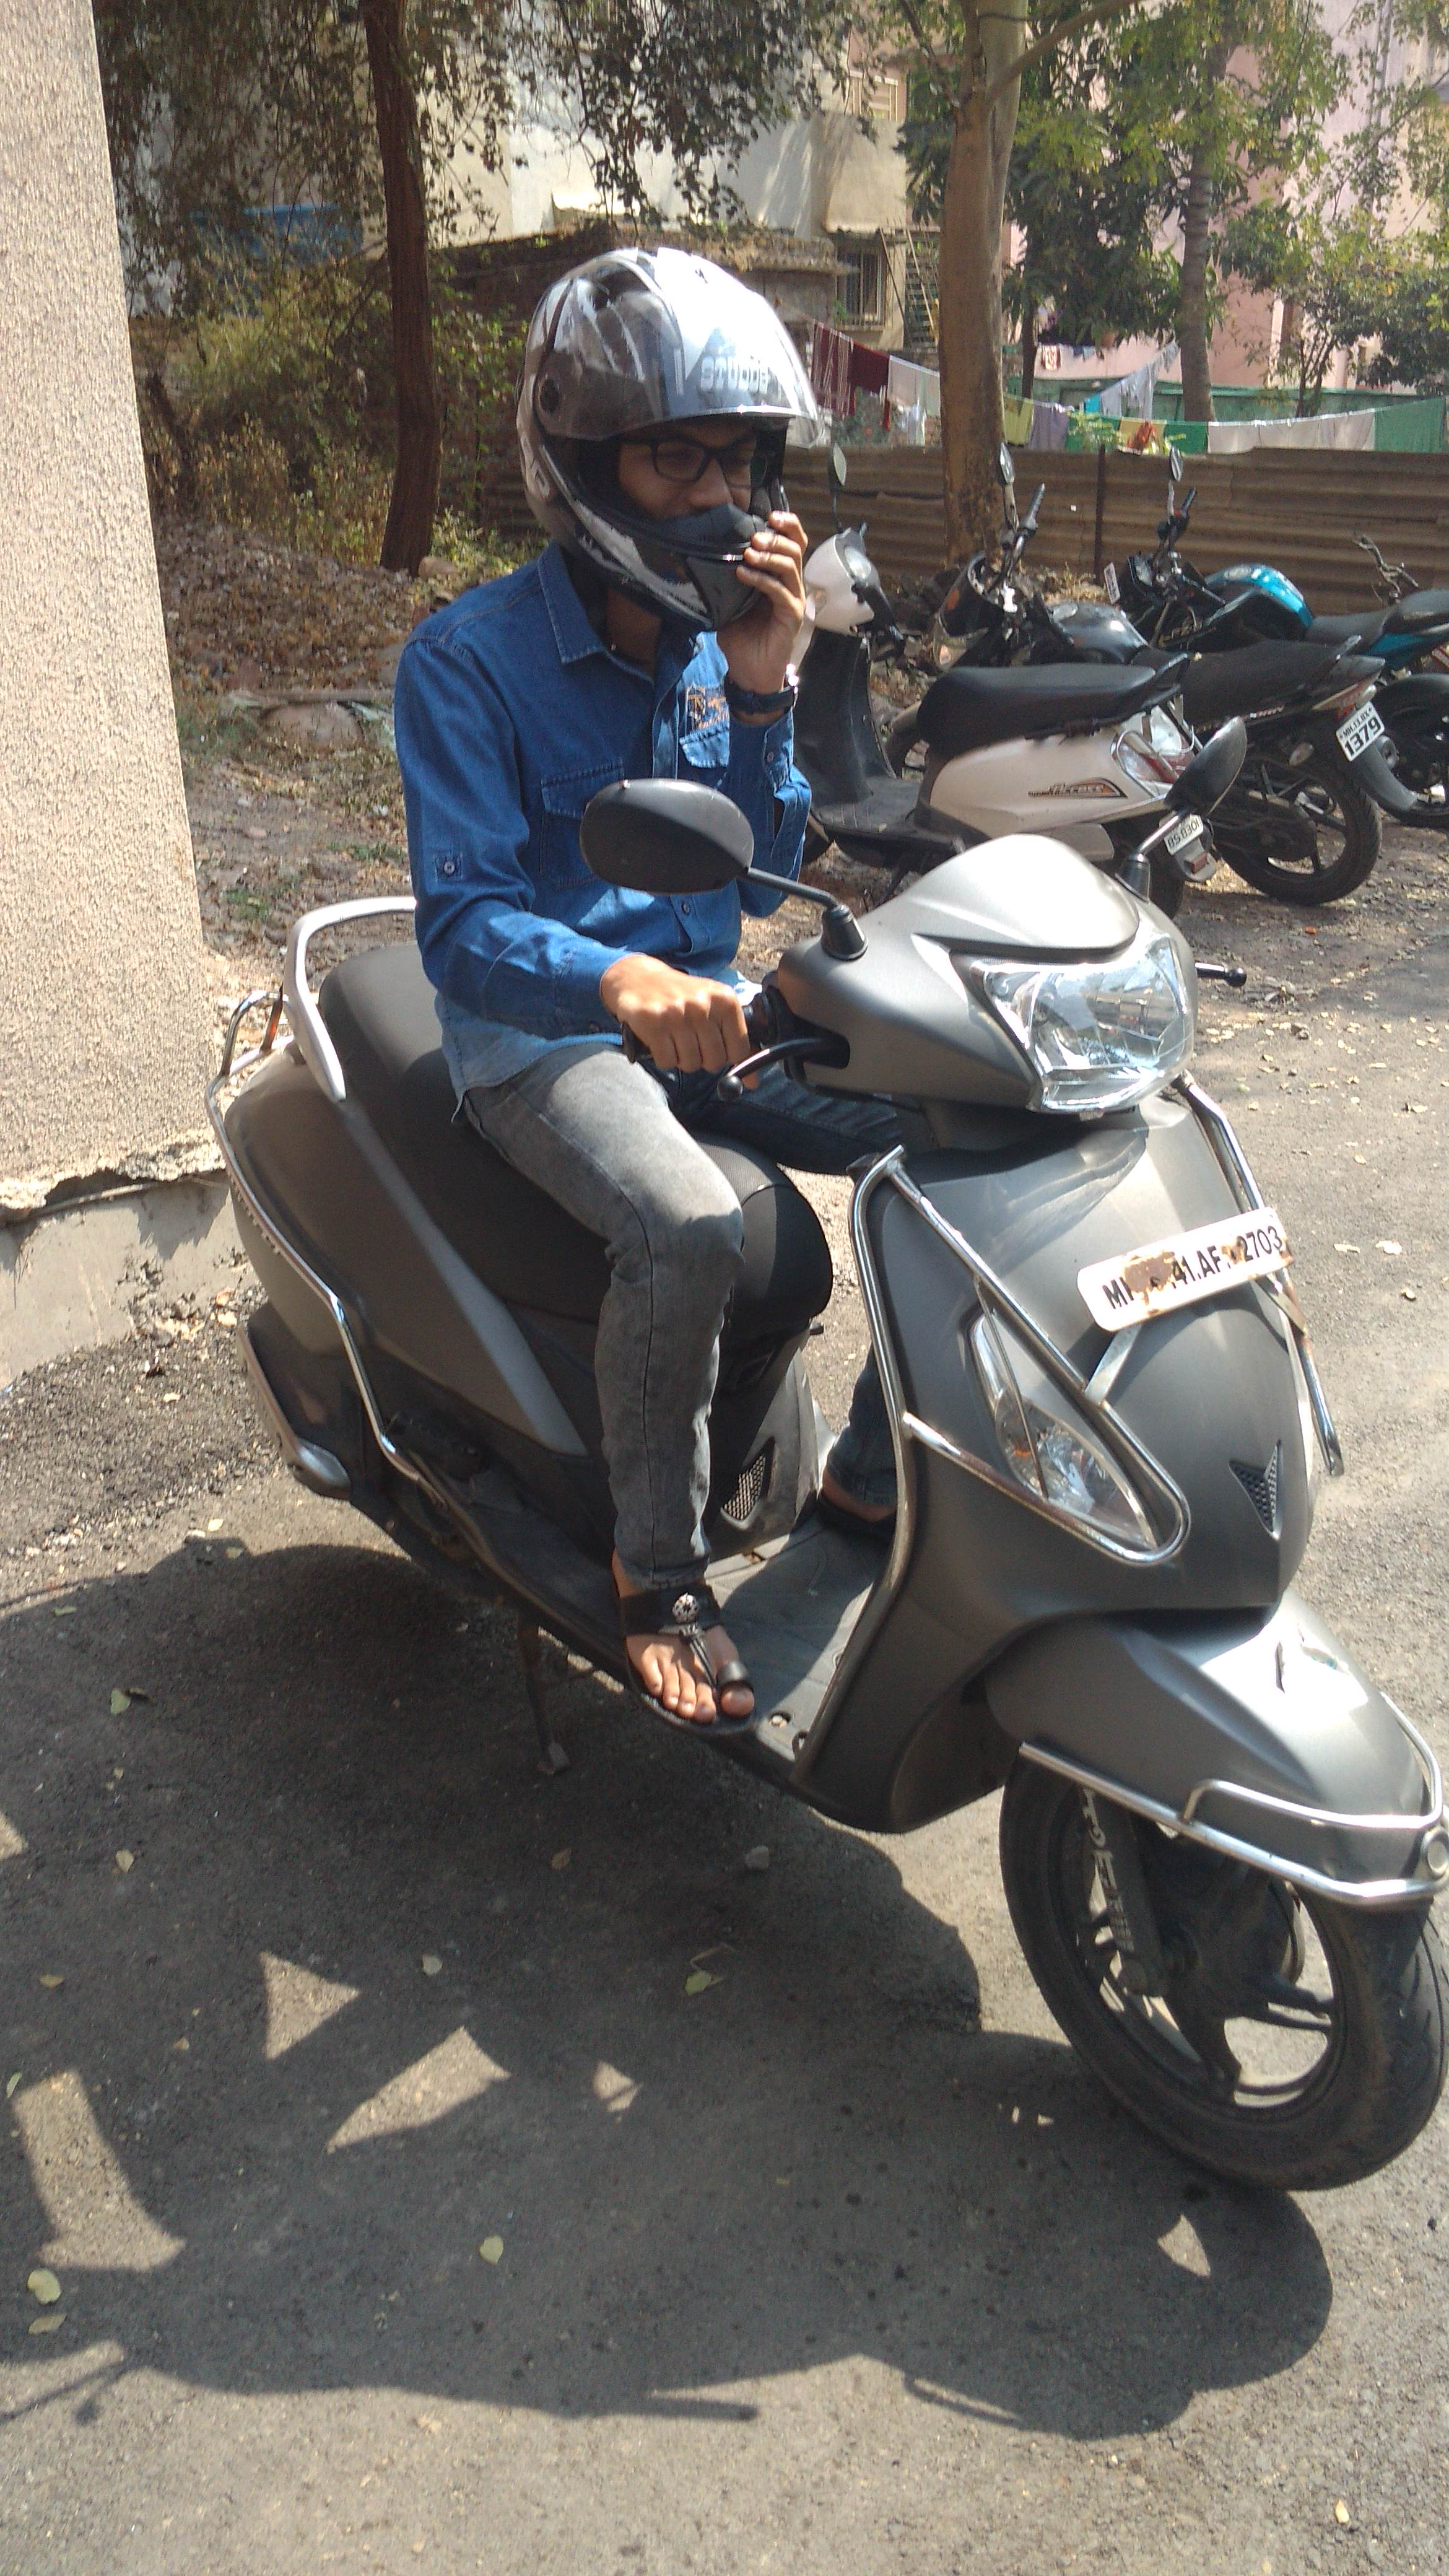helmet: (361, 214, 931, 1396)
